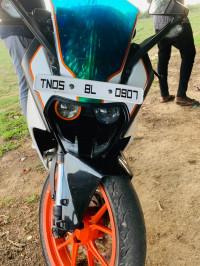numberplate: (33, 73, 144, 103)
